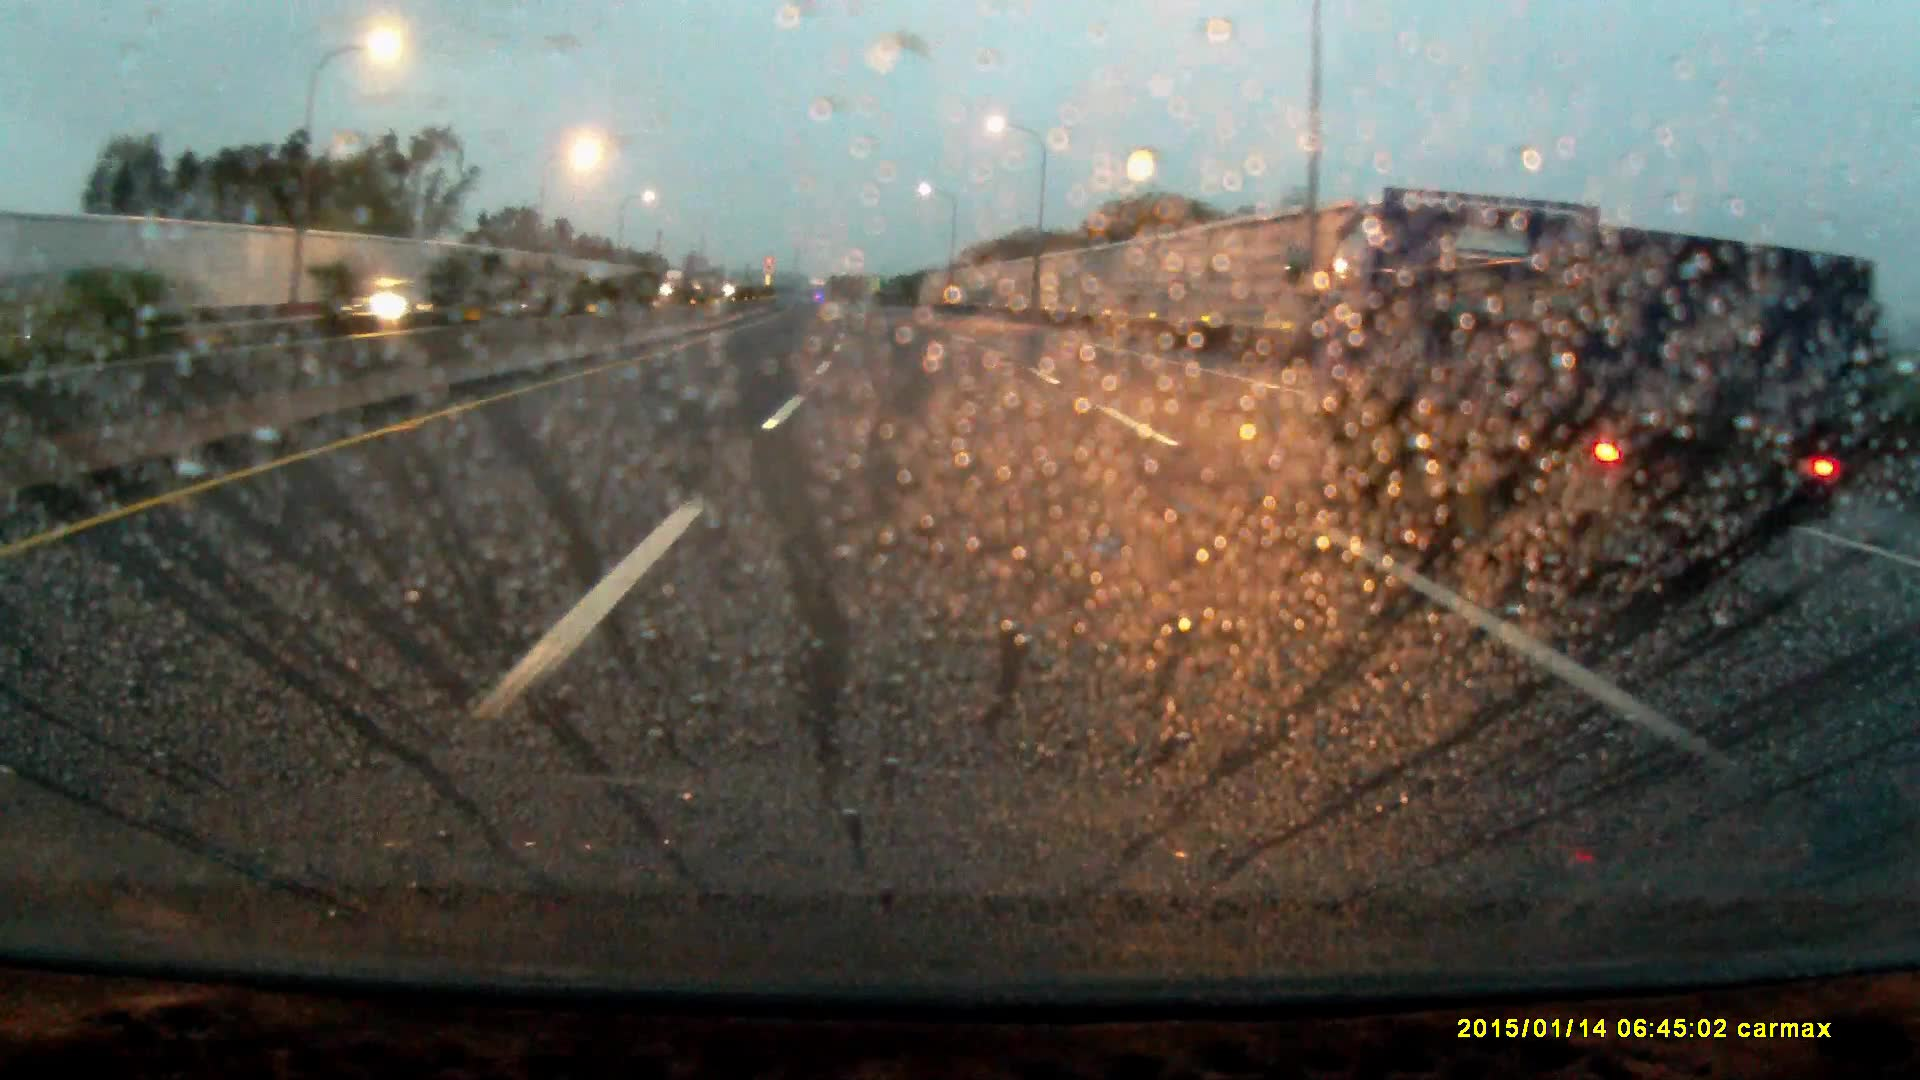vehicle: (1278, 194, 1847, 591), (1, 266, 203, 342), (345, 277, 430, 320), (487, 272, 559, 316), (665, 268, 688, 298)
